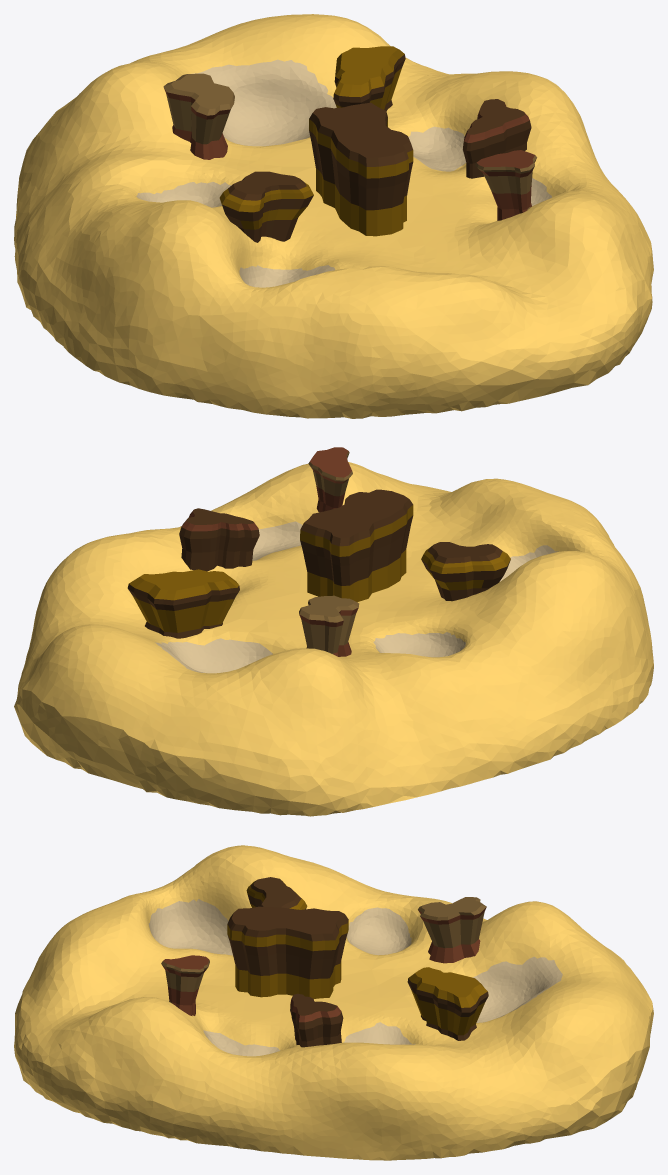
Rendered from Cactos_Enviroment3.fbx.
3 views of the same model, one above another, from view 1: azimuth 30°, elevation 25°; view 2: azimuth 150°, elevation 25°; view 3: azimuth 270°, elevation 25° (orthographic). The views are drawn at different scales.
Parts seen in each view (by area): view 1: Icosphere, Icosphere.001, Plane.001, Plane.002, Plane.003, Plane.005, Plane.006, Plane.004; view 2: Icosphere, Plane.001, Icosphere.001, Plane.005, Plane.006, Plane.002, Plane.003, Plane.004; view 3: Icosphere, Icosphere.001, Plane.001, Plane.005, Plane.003, Plane.006, Plane.004, Plane.002.
Part boxes in pixels (x1,y1,x2,y2): Icosphere: (14,14,653,418); Icosphere.001: (136,59,551,287); Plane.001: (309,102,413,236); Plane.002: (219,171,313,242); Plane.003: (163,73,234,159); Plane.005: (333,46,405,111); Plane.006: (463,99,531,178); Plane.004: (475,150,536,220); Icosphere: (14,462,653,816); Plane.001: (300,489,413,602); Icosphere.001: (155,521,558,673); Plane.005: (127,569,239,638); Plane.006: (179,508,259,571); Plane.002: (421,542,510,601); Plane.003: (299,595,359,656); Plane.004: (308,447,352,512); Icosphere: (14,845,653,1160); Icosphere.001: (149,899,562,1056); Plane.001: (227,906,348,998); Plane.005: (407,967,488,1040); Plane.003: (418,897,486,963); Plane.006: (290,993,343,1047); Plane.004: (161,955,209,1015); Plane.002: (246,877,307,909).
Size of the model in its own units: 22353 by 6019 by 26285.
